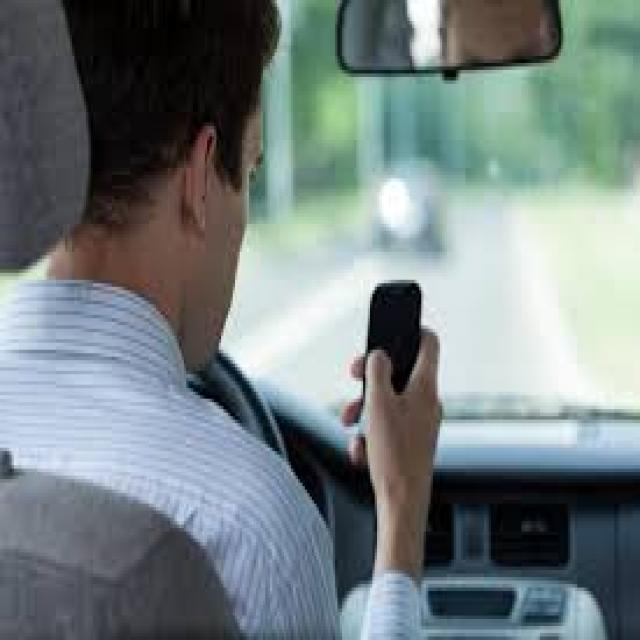Cellphone_texting: (344, 273, 444, 514)
